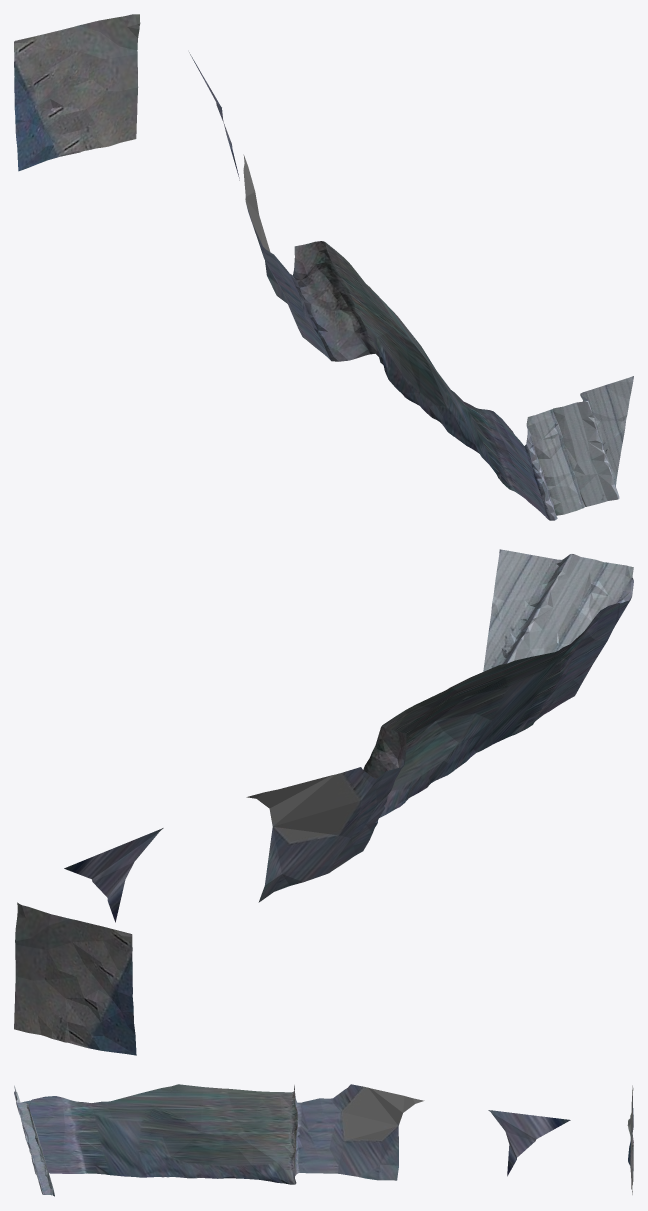
Rendered from Tile_+001_+005_L23_001033.obj.
The picture shows the model from 3 angles, top to bottom: view 1: azimuth 30°, elevation 25°; view 2: azimuth 150°, elevation 25°; view 3: azimuth 270°, elevation 25°; orthographic projection. The views are drawn at different scales.
Bounding box in the file's own units: 1.91 × 1.91 × 13.96.
1 material, 1 textured.
